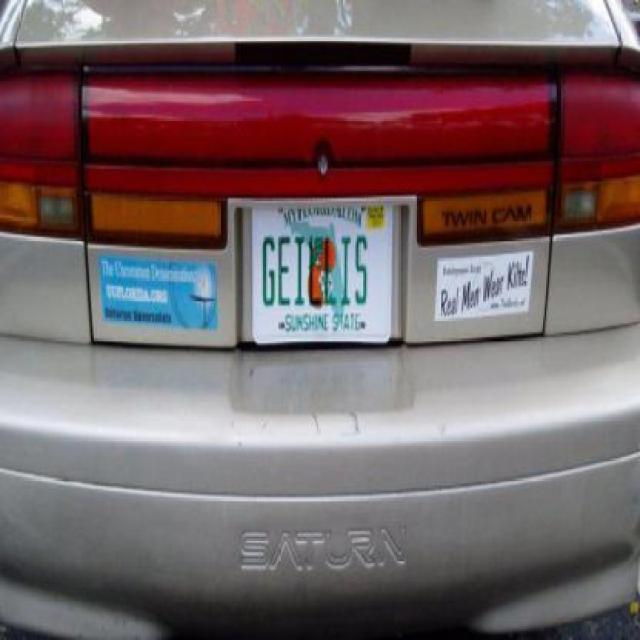Licenseplate: (242, 195, 404, 354)
